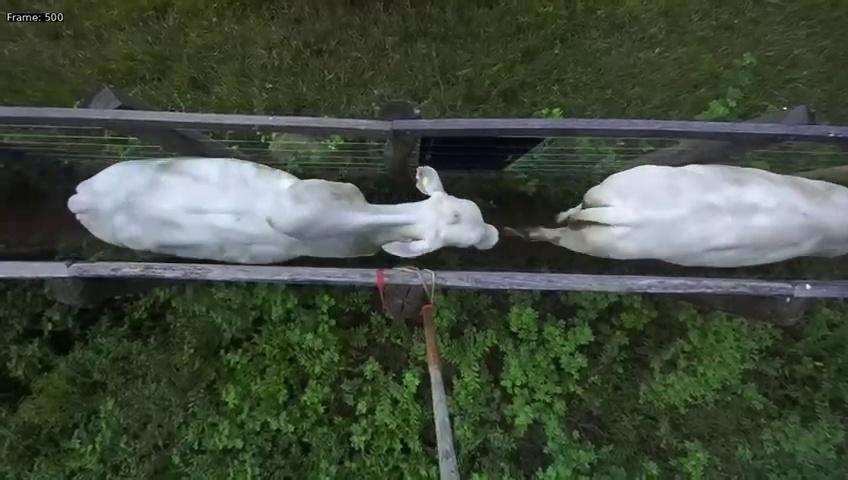cattle: (66, 135, 500, 265)
